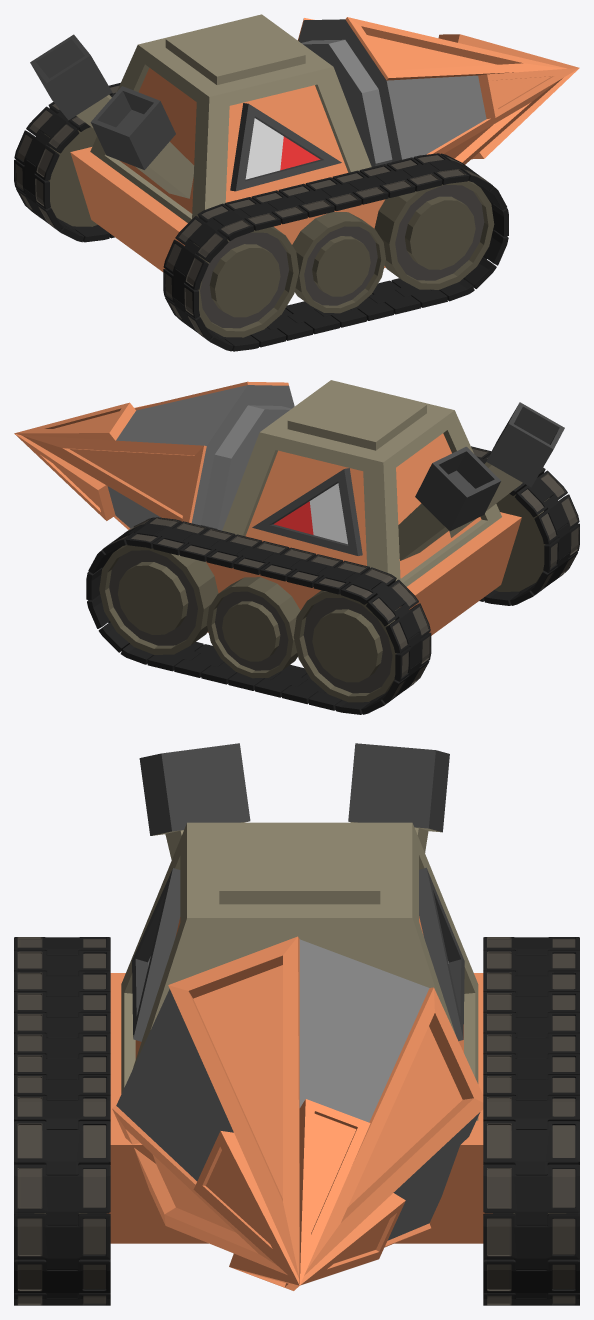
File: BossBoreTank.fbx
3 views of the same model, one above another, from view 1: azimuth 30°, elevation 25°; view 2: azimuth 150°, elevation 25°; view 3: azimuth 270°, elevation 25° (orthographic). The views are drawn at different scales.
Parts seen in each view (by area): view 1: Cube.233, Cone.001, Cube.235, Cylinder.083, Cylinder.084, Cube.232, Cylinder.085, Cube.238, Cube.236, Cube.239, Cube.237, Cylinder.086; view 2: Cube.233, Cone.001, Cube.236, Cylinder.087, Cylinder.086, Cube.232, Cylinder.088, Cube.237, Cube.235, Cube.240, Cube.238, Cylinder.084; view 3: Cone.001, Cube.233, Cube.235, Cube.236, Cube.232, Cube.238, Cube.237, Cube.239, Cube.240.
Part boxes in pixels (left/top/right/bottom): Cube.233: left=90, top=14, right=371, bottom=222; Cone.001: left=298, top=17, right=579, bottom=166; Cube.235: left=163, top=153, right=508, bottom=351; Cylinder.083: left=374, top=181, right=494, bottom=289; Cylinder.084: left=194, top=226, right=298, bottom=337; Cube.232: left=70, top=147, right=385, bottom=271; Cylinder.085: left=292, top=212, right=385, bottom=313; Cube.238: left=90, top=86, right=193, bottom=198; Cube.236: left=14, top=83, right=120, bottom=242; Cube.239: left=230, top=103, right=341, bottom=191; Cube.237: left=30, top=34, right=112, bottom=128; Cylinder.086: left=45, top=127, right=97, bottom=226; Cube.233: left=222, top=380, right=501, bottom=586; Cone.001: left=14, top=381, right=294, bottom=530; Cube.236: left=86, top=517, right=431, bottom=714; Cylinder.087: left=99, top=544, right=218, bottom=654; Cylinder.086: left=293, top=590, right=398, bottom=702; Cube.232: left=206, top=512, right=521, bottom=635; Cylinder.088: left=206, top=577, right=300, bottom=678; Cube.237: left=398, top=446, right=500, bottom=560; Cube.235: left=471, top=446, right=579, bottom=605; Cube.240: left=252, top=468, right=362, bottom=555; Cube.238: left=449, top=402, right=564, bottom=537; Cylinder.084: left=494, top=493, right=548, bottom=591; Cone.001: left=112, top=936, right=483, bottom=1290; Cube.233: left=121, top=822, right=478, bottom=1120; Cube.235: left=14, top=937, right=110, bottom=1305; Cube.236: left=483, top=937, right=579, bottom=1305; Cube.232: left=107, top=973, right=492, bottom=1243; Cube.238: left=139, top=743, right=250, bottom=859; Cube.237: left=348, top=743, right=449, bottom=852; Cube.239: left=132, top=868, right=180, bottom=1041; Cube.240: left=419, top=867, right=464, bottom=1041.
Size of the model in its own units: 447 by 189 by 270.
